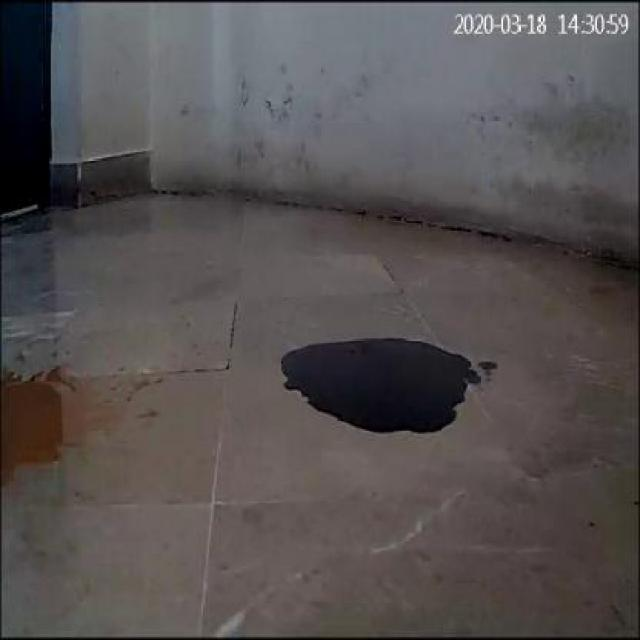spill: (278, 330, 473, 430)
